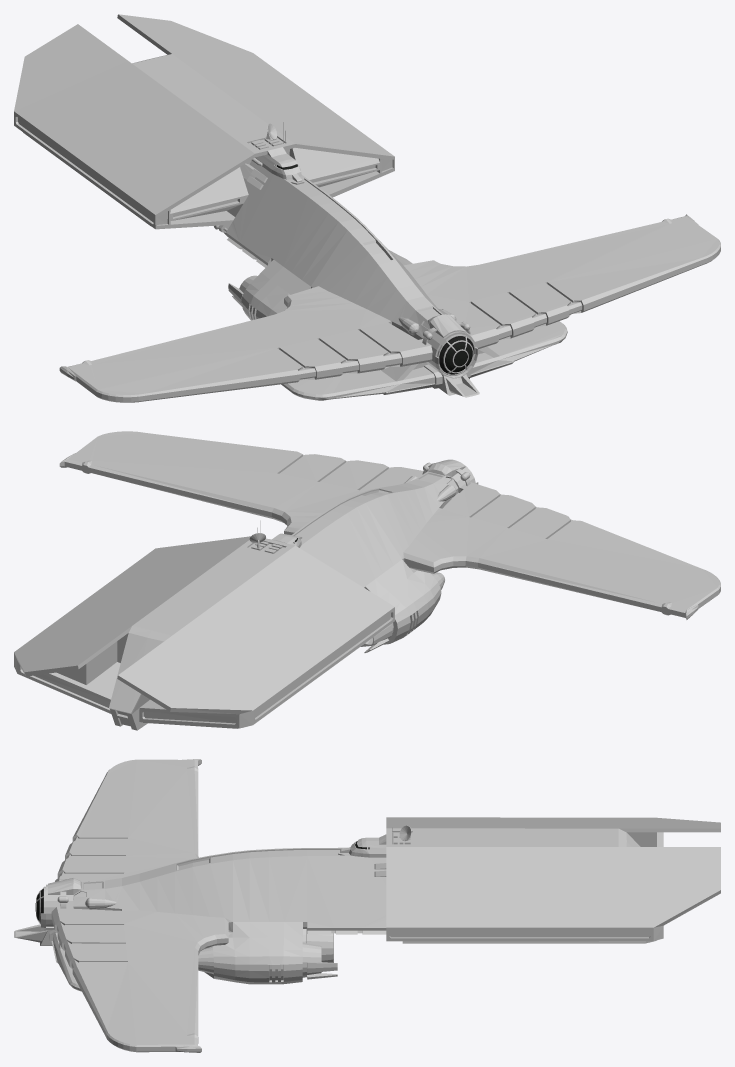
The model's file is smuggler_warlord_ship_l0.fbx.
The picture shows the model from 3 angles, top to bottom: view 1: azimuth 30°, elevation 25°; view 2: azimuth 150°, elevation 25°; view 3: azimuth 270°, elevation 25°; orthographic projection. The views are drawn at different scales.
Parts seen in each view (by area): view 1: mesh_node; view 2: mesh_node; view 3: mesh_node.
Boxes of the visible parts, box(x1,y1,x2,y2) form: mesh_node: box(14, 14, 720, 402); mesh_node: box(14, 431, 720, 730); mesh_node: box(14, 759, 720, 1052).
Size of the model in its own units: 172 by 45.43 by 178.
